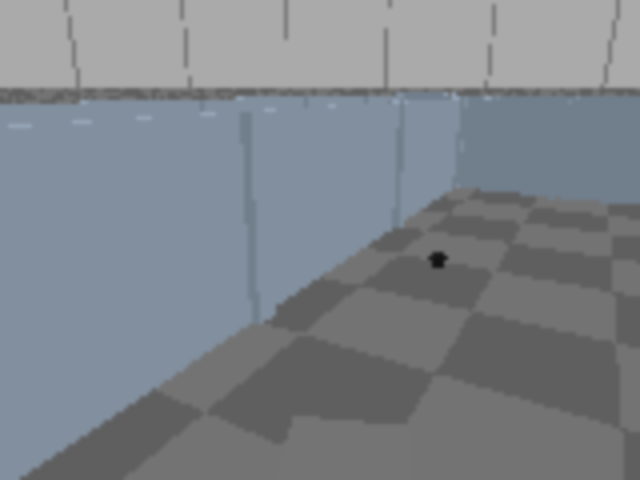obstacle: (275, 415, 414, 478)
puck: (427, 249, 449, 270)
